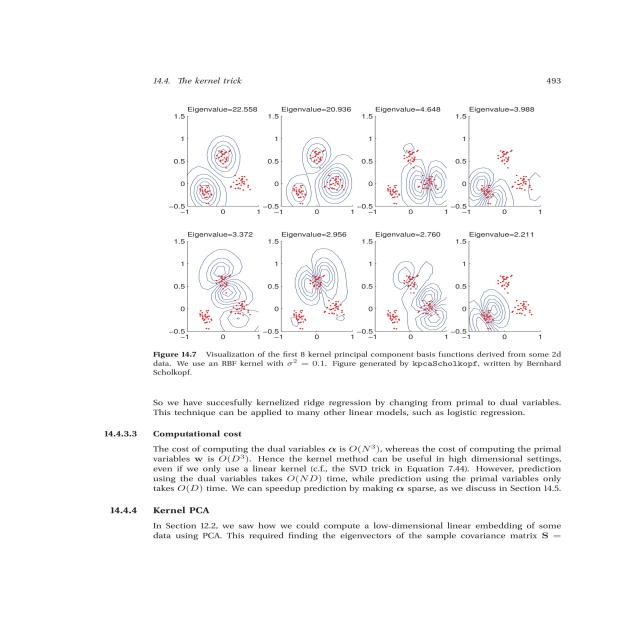diagram: (112, 82, 617, 370)
